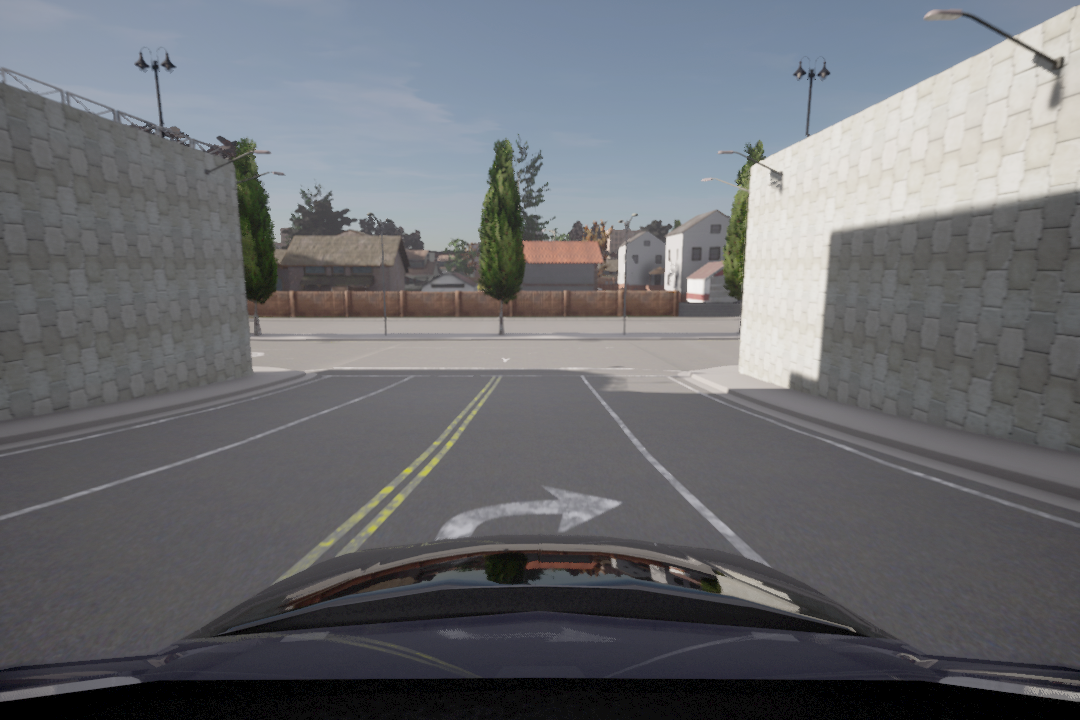RoadSign_right: (423, 472, 647, 561)
